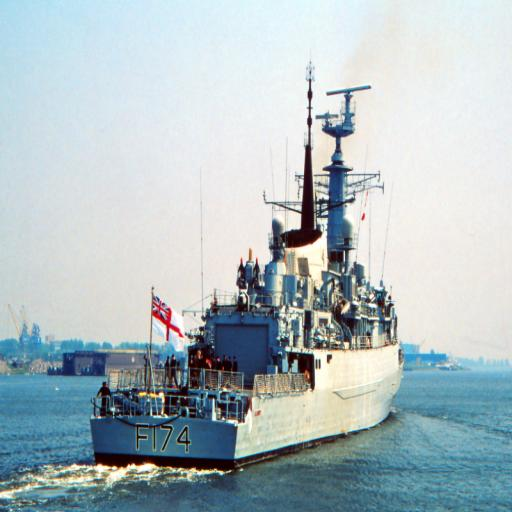Fragata: (87, 49, 406, 469)
